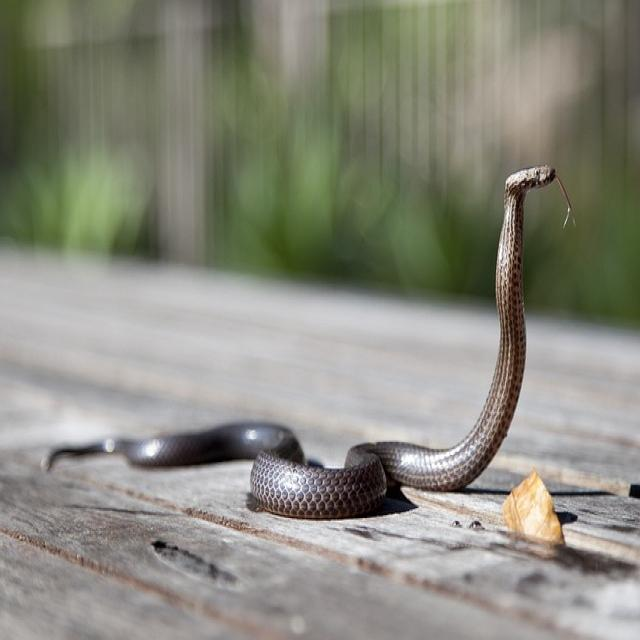Carnivorous: (44, 166, 558, 522)
